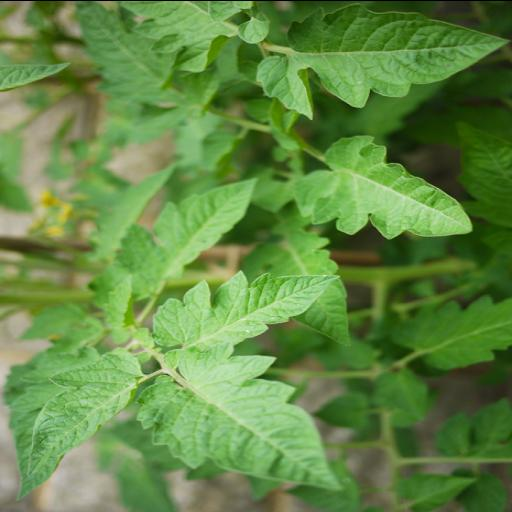Healthy: (254, 2, 512, 120), (134, 357, 340, 487), (16, 345, 144, 498), (293, 134, 473, 240), (150, 269, 342, 367), (114, 176, 262, 294)
